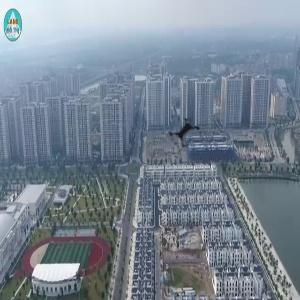drone: (156, 105, 218, 167)
